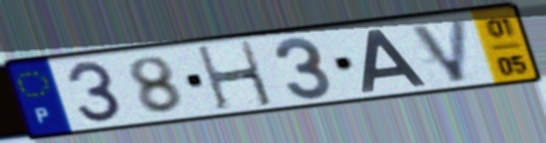3: (272, 35, 334, 102), (64, 58, 123, 126)
8: (125, 54, 186, 115)
A: (358, 27, 430, 95)
H: (193, 38, 277, 113)
V: (406, 15, 472, 86)
